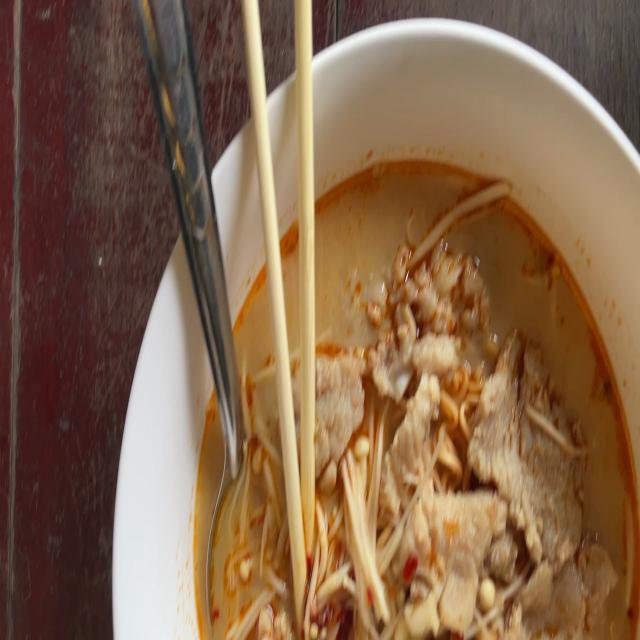noodle: (191, 129, 640, 639)
